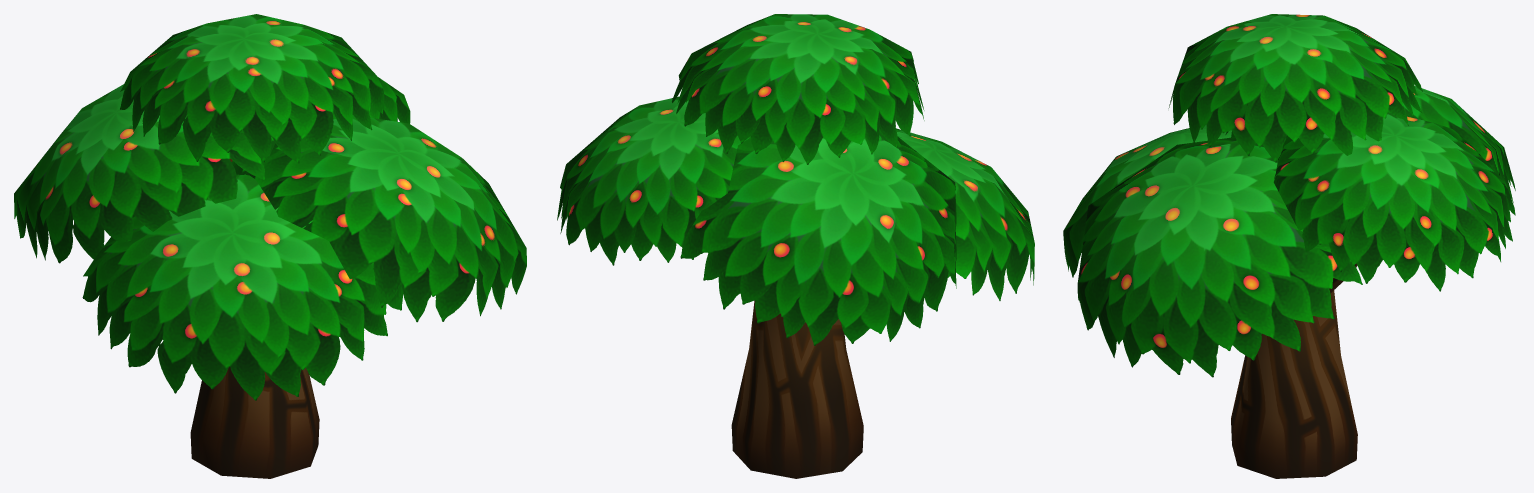
The model's file is Tree_01.FBX.
3 renders of one model, left to right at view 1: azimuth 30°, elevation 25°; view 2: azimuth 150°, elevation 25°; view 3: azimuth 270°, elevation 25°, orthographic.
Parts seen in each view (by area): view 1: Tree_01; view 2: Tree_01; view 3: Tree_01.
Boxes of the visible parts, <box> form: Tree_01: <box>14,14,526,478</box>; Tree_01: <box>557,14,1034,478</box>; Tree_01: <box>1063,14,1515,478</box>.
Size of the model in its own units: 2.9 by 2.91 by 2.87.
